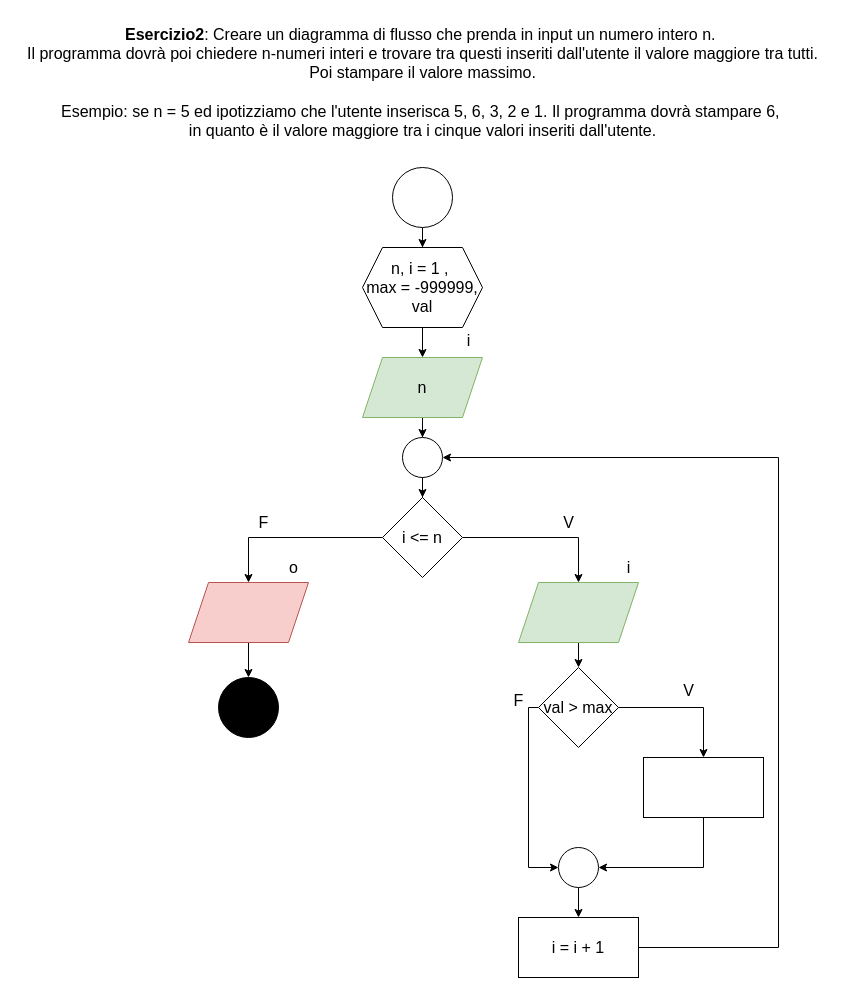
Image size: 844x995. Some labels were removed from this diagram. Each missing label, with the box of its shape:
max: (188, 582, 308, 642)
max = val: (642, 756, 764, 818)
val: (518, 582, 638, 642)
